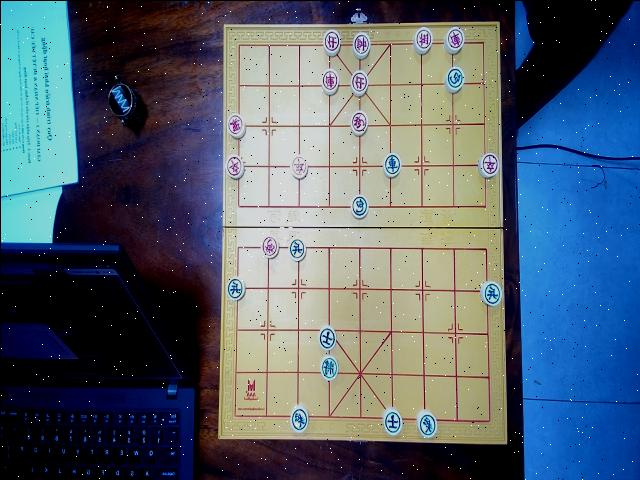piece: (479, 278, 501, 306), (288, 404, 308, 432), (321, 28, 341, 56), (416, 410, 436, 438), (382, 408, 402, 436), (412, 26, 432, 54), (443, 26, 463, 54), (443, 65, 463, 93), (351, 30, 370, 59), (477, 152, 498, 178), (224, 275, 244, 301), (225, 112, 245, 138), (349, 68, 367, 96), (349, 193, 368, 219), (320, 68, 338, 95), (225, 153, 243, 179), (317, 324, 335, 350), (349, 109, 367, 135), (319, 354, 337, 380), (382, 152, 400, 178), (290, 155, 307, 179), (260, 235, 278, 257), (288, 238, 305, 260)
